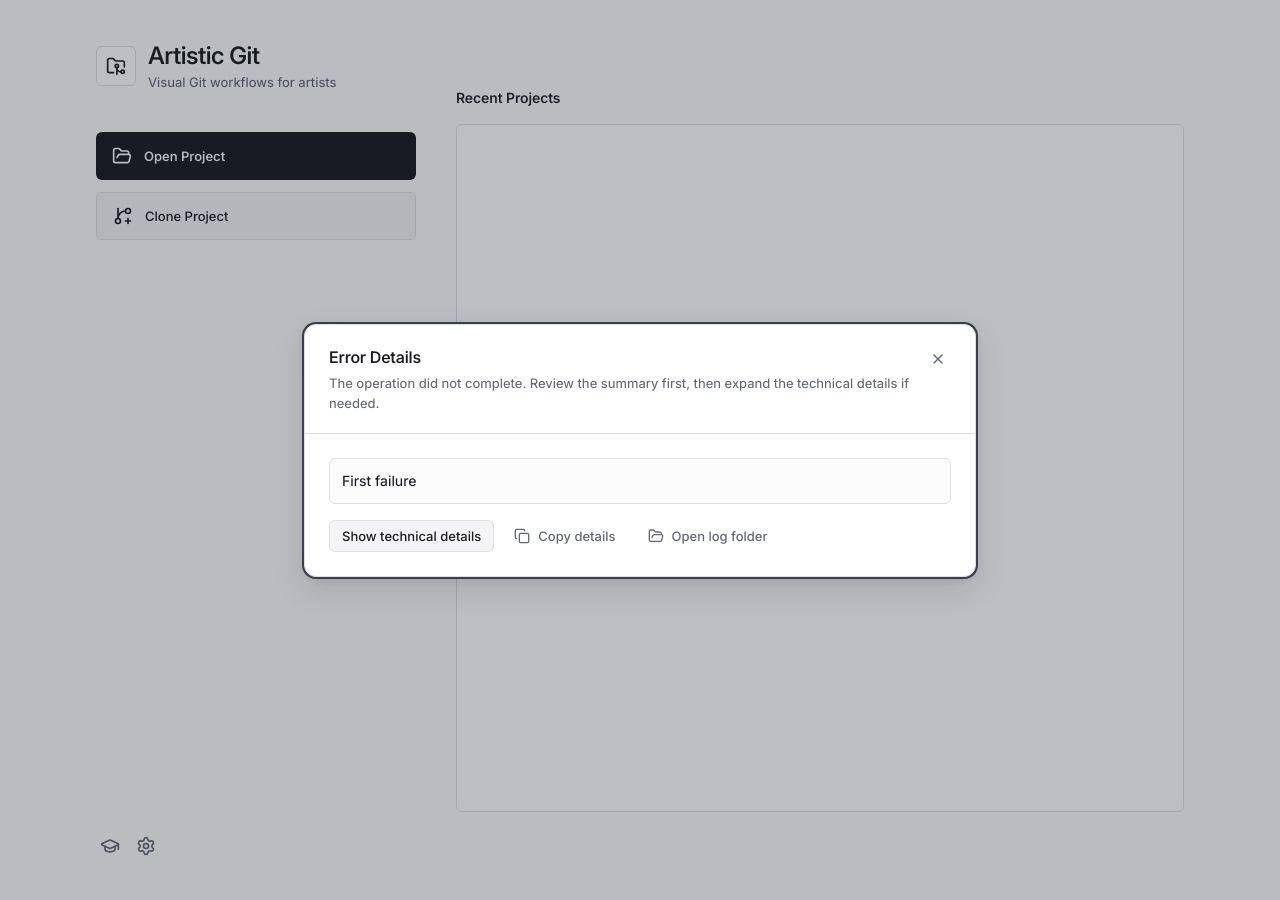
Test case: App › queues concurrent errors instead of replacing the visible details
This screenshot has width=1280, height=900.
Expected: the dialog "Error Details" shows "First failure", left=342, top=472, right=416, bottom=488
Expected: the dialog "Error Details" does not show "Second failure", left=304, top=324, right=976, bottom=576
Click the button named "Close". click: [938, 358]
box: left=925, top=344, right=951, bottom=372
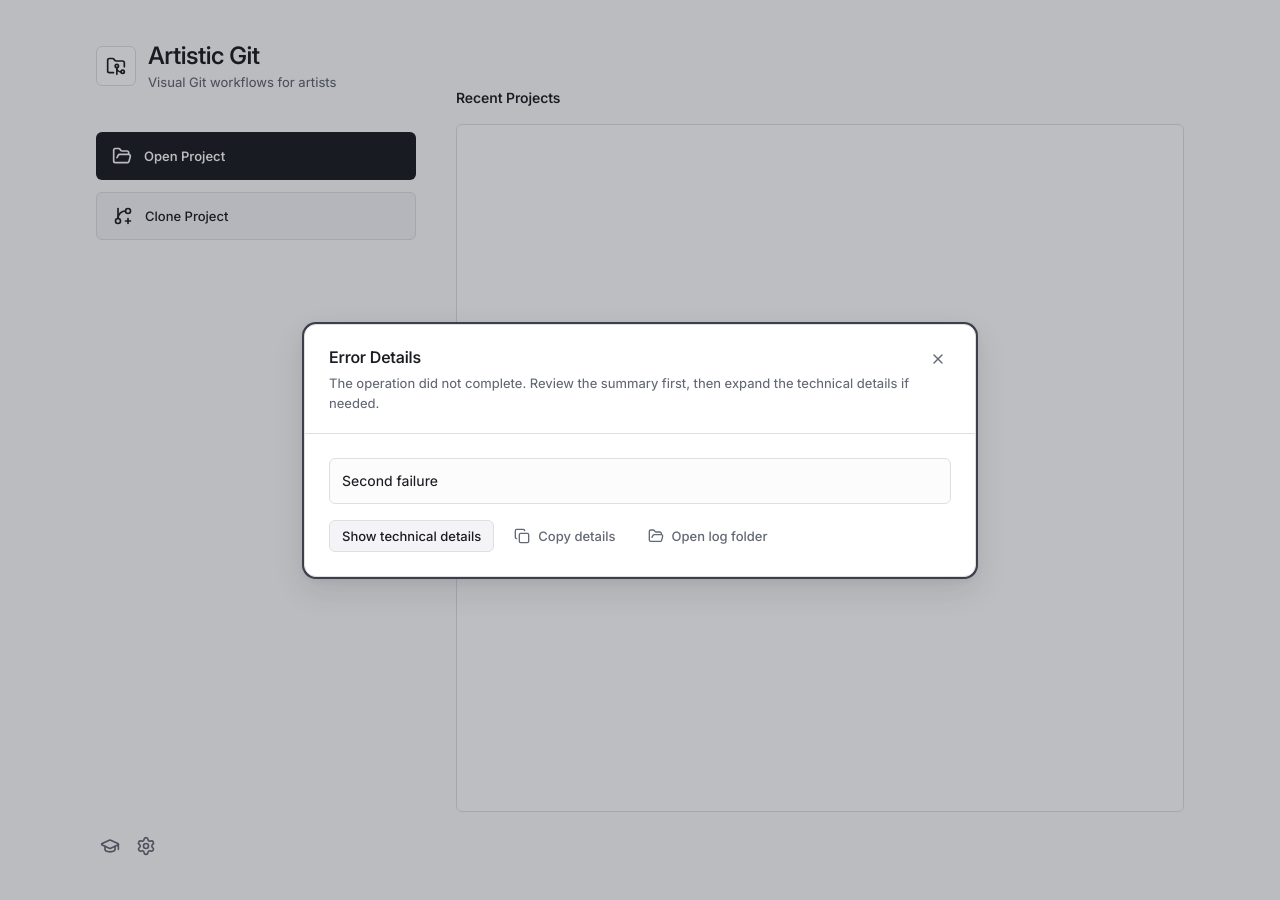
Result: the dialog "Error Details" shows "Second failure" at left=342, top=472, right=438, bottom=488
Click the button "Show technical details". click: [412, 536]
box: left=329, top=520, right=494, bottom=552
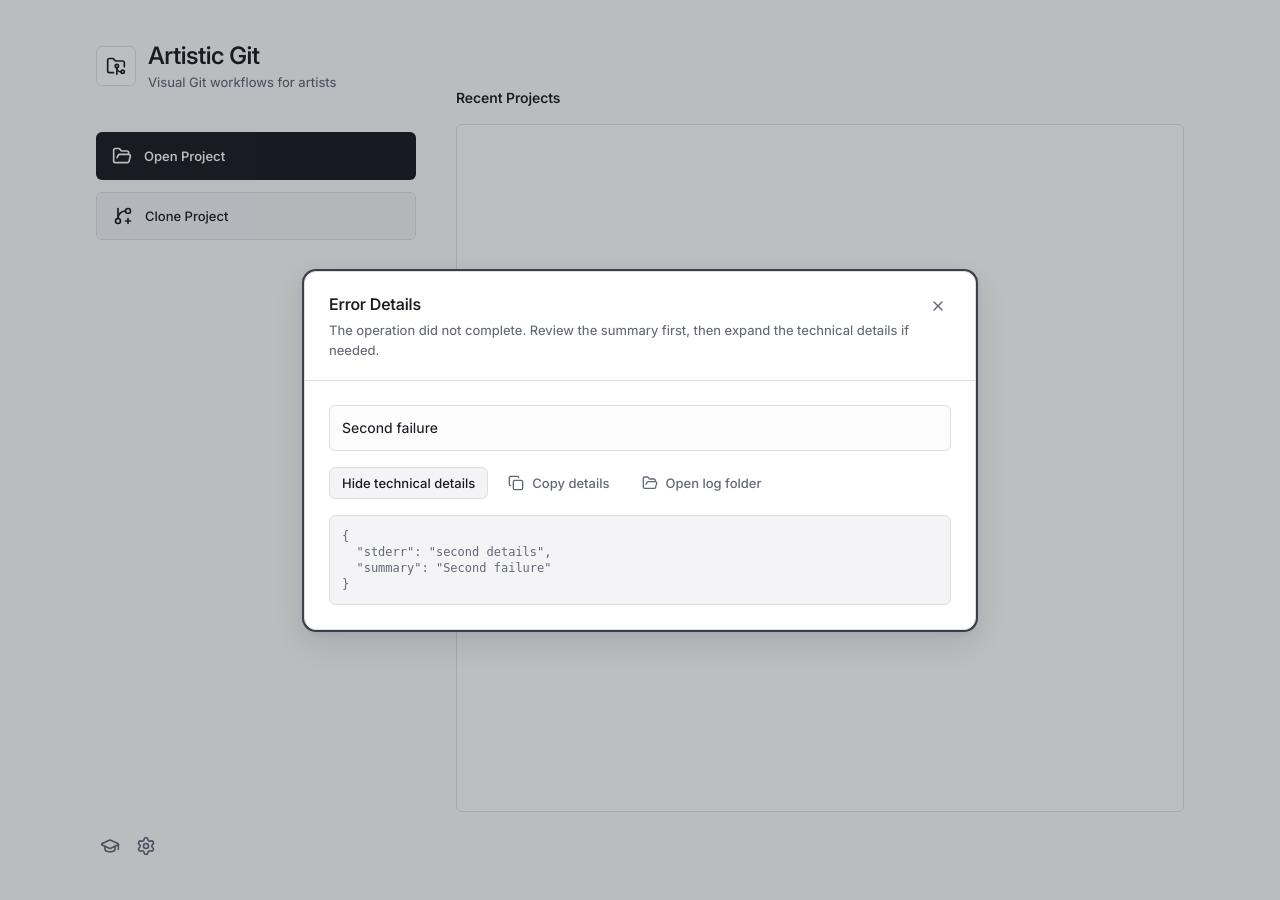
Result: the dialog "Error Details" shows "second details" at left=342, top=528, right=552, bottom=590
